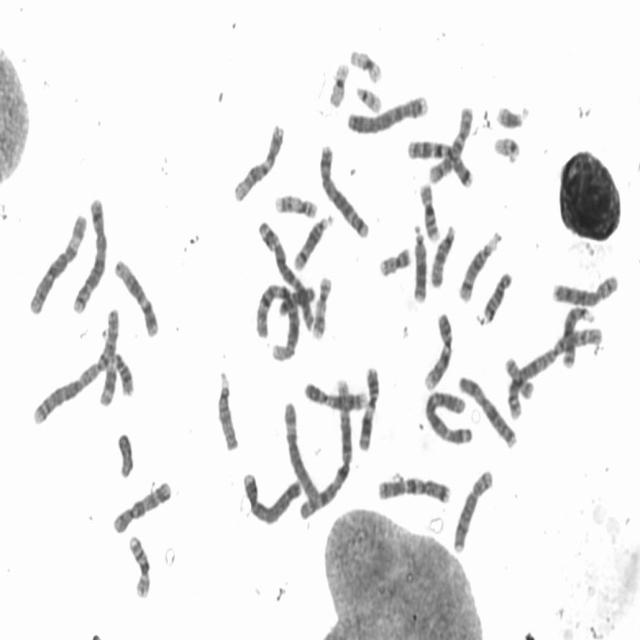A1: (298, 372, 353, 521), (255, 283, 299, 360)
A2: (508, 328, 602, 418), (32, 351, 135, 429)
A3: (255, 218, 315, 331), (425, 390, 475, 444)
B4: (346, 93, 431, 138), (240, 470, 301, 524)
B5: (318, 145, 370, 241), (72, 198, 109, 317)
C10: (428, 104, 474, 185), (111, 480, 172, 536)
C11: (98, 306, 121, 411), (357, 367, 379, 452)
C12: (232, 122, 286, 205), (113, 258, 160, 338)
C6: (29, 211, 86, 317), (285, 402, 321, 505)
C7: (407, 139, 476, 189), (378, 476, 450, 505)
C8: (452, 467, 493, 553), (551, 275, 620, 309)
C9: (421, 310, 454, 390), (304, 381, 368, 412)
D13: (560, 306, 596, 368), (412, 224, 428, 302)
D14: (458, 230, 504, 302), (292, 214, 334, 270)
D15: (213, 370, 242, 456), (428, 222, 456, 290)
E16: (126, 533, 155, 603), (419, 178, 441, 242)
E17: (310, 274, 332, 338), (272, 190, 318, 220)
E18: (482, 270, 513, 323), (279, 286, 316, 318)
F19: (349, 48, 384, 84), (325, 63, 350, 109)
F20: (500, 355, 536, 402), (378, 246, 411, 278)
G21: (495, 105, 531, 132)
G22: (492, 137, 526, 163), (354, 84, 383, 114)
X: (457, 373, 518, 449)
Y: (116, 428, 136, 480)
